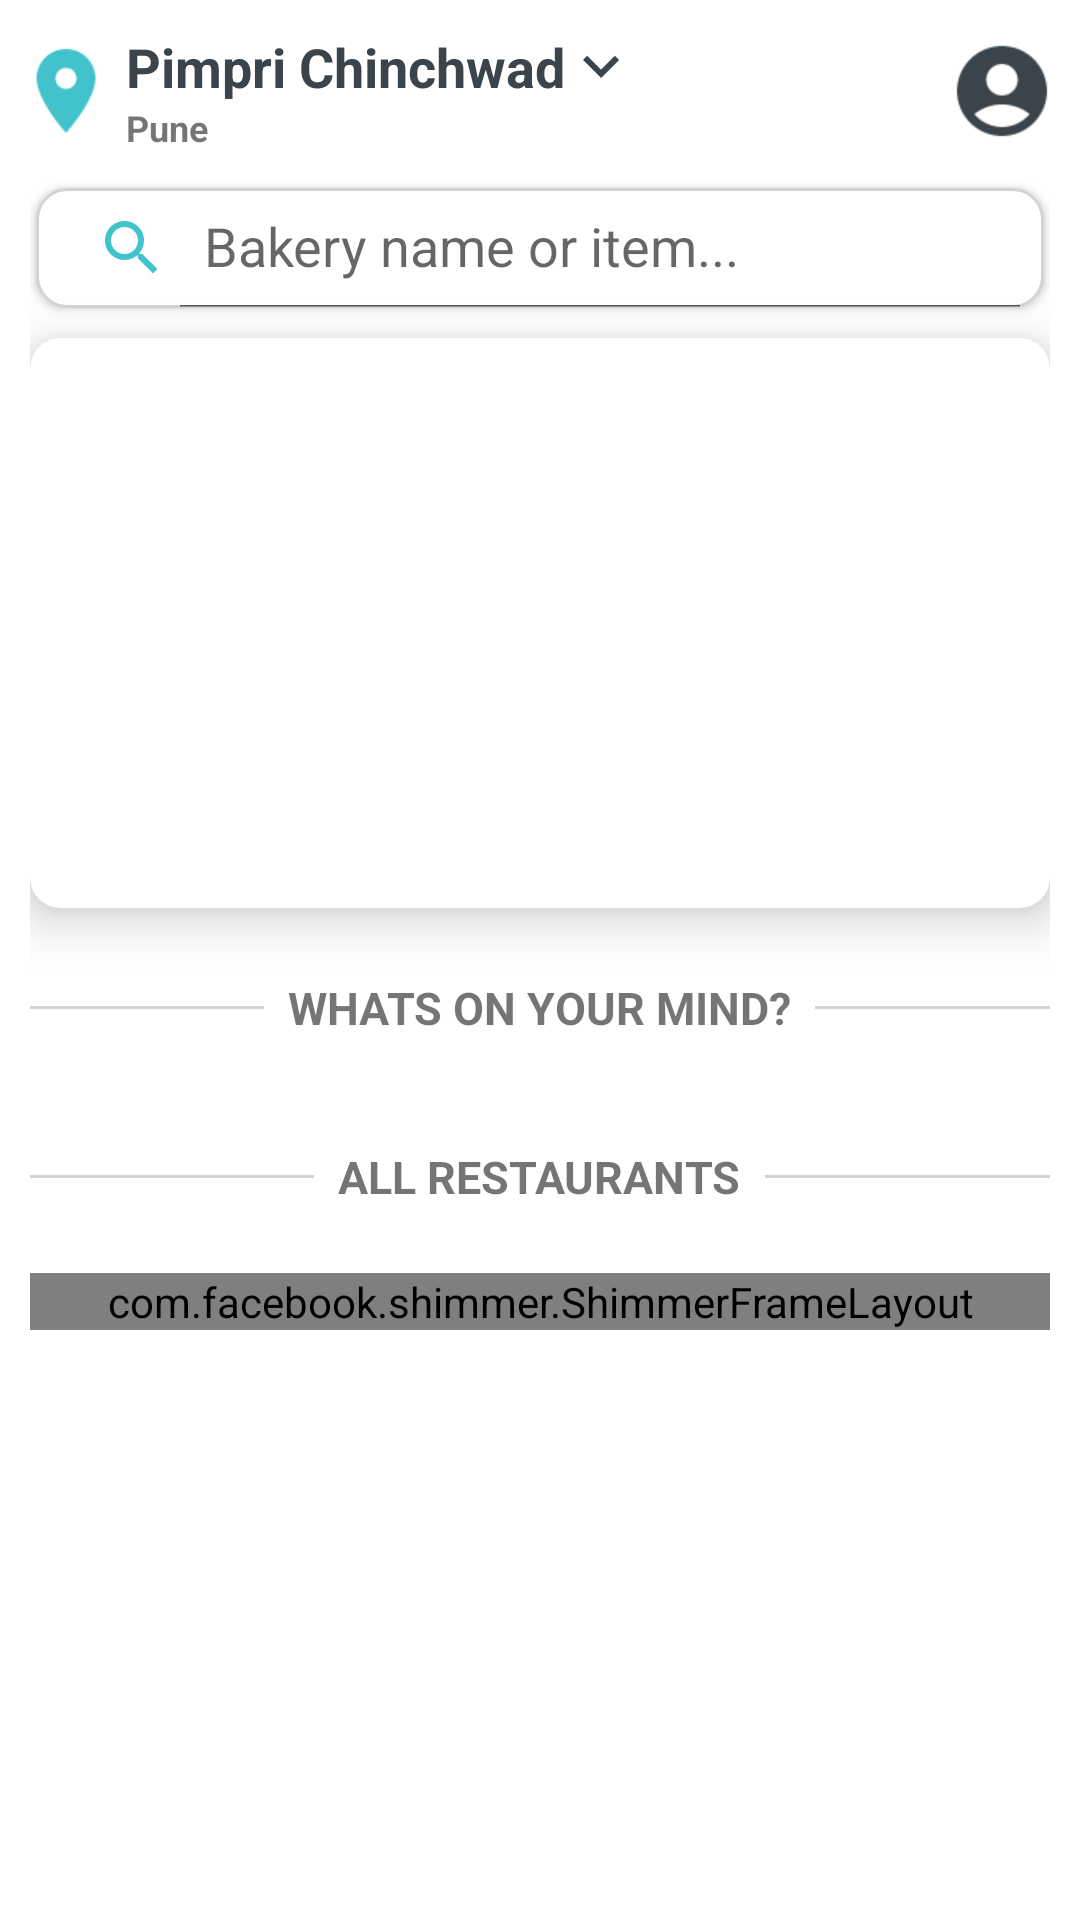

Named icons in this screenshot (1080w x 1920h) and their bounding boxes, (x1=x1, y1=y1, x2=x2, y2=y2):
keyboard arrow down: (x1=583, y1=56, x2=619, y2=78)
